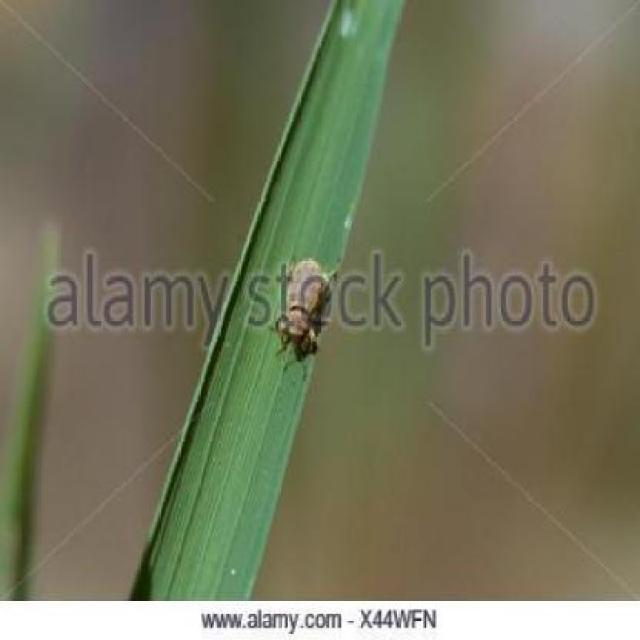rice-bug: (276, 253, 332, 362)
